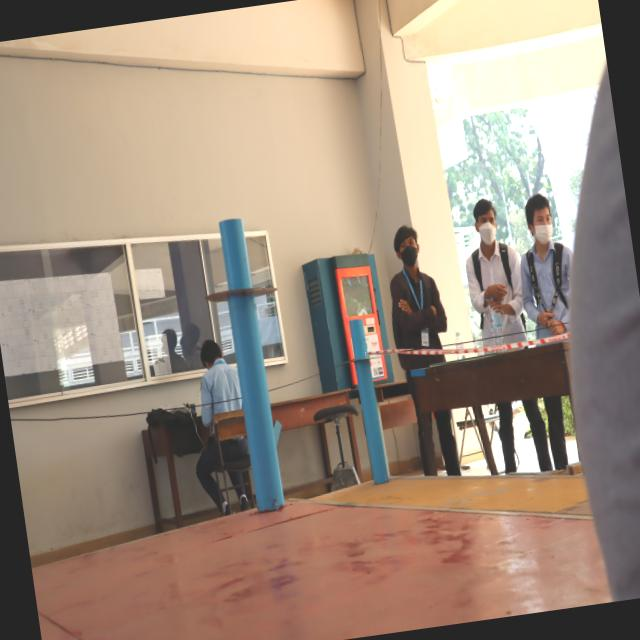pole: (195, 210, 282, 360), (340, 322, 379, 388)
